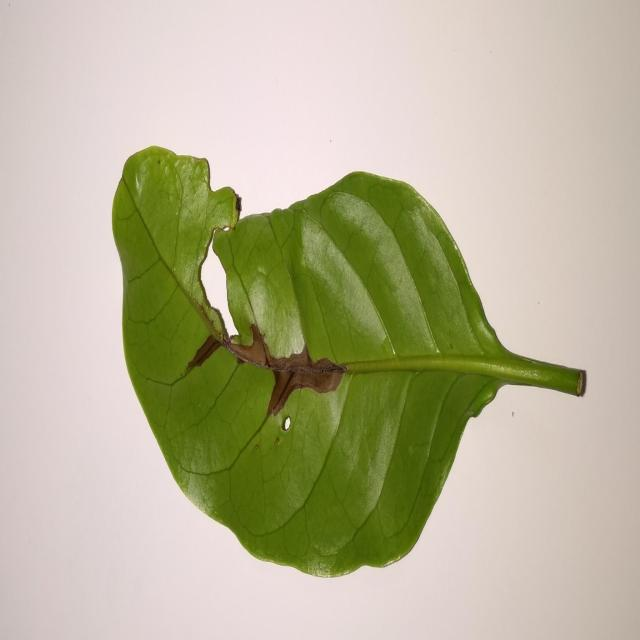Enfermedad-Antracnosis: (110, 146, 588, 580)
